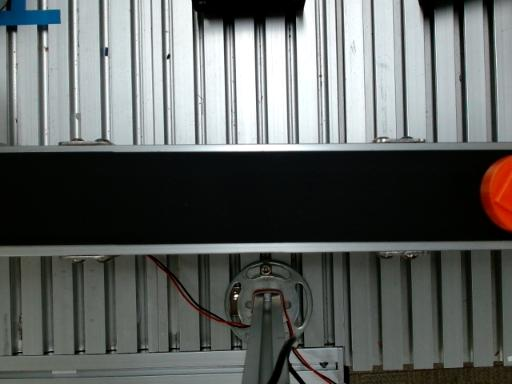Orange_Waper: (481, 155, 511, 231)
